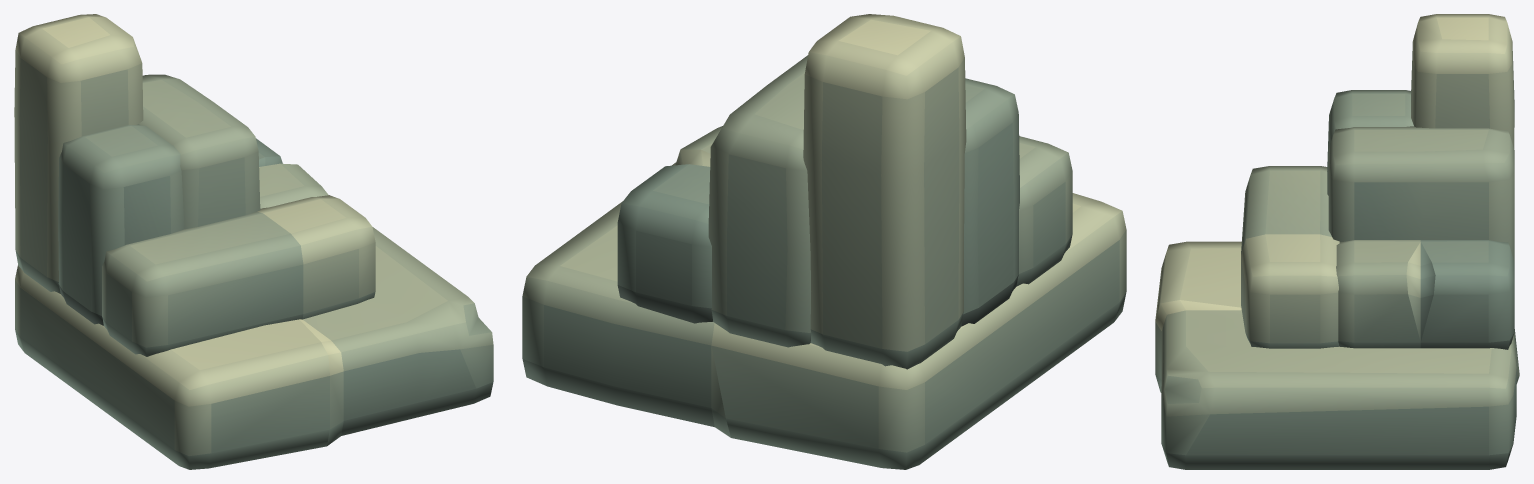
File: stair_stone1_corner_conv_LOD_group.fbx
3 renders of one model, left to right at view 1: azimuth 30°, elevation 25°; view 2: azimuth 150°, elevation 25°; view 3: azimuth 270°, elevation 25°, orthographic. The views are drawn at different scales.
Parts seen in each view (by area): view 1: stair_stone1_corner_conv_LOD0; view 2: stair_stone1_corner_conv_LOD0; view 3: stair_stone1_corner_conv_LOD0.
Boxes of the visible parts, box(x1,y1,x2,y2) form: stair_stone1_corner_conv_LOD0: box(14, 14, 493, 469); stair_stone1_corner_conv_LOD0: box(522, 14, 1126, 469); stair_stone1_corner_conv_LOD0: box(1155, 14, 1519, 469).
Size of what is drawn, in the model's own units: 106 by 106 by 109.
Materials: 1 (1 with a texture image).
